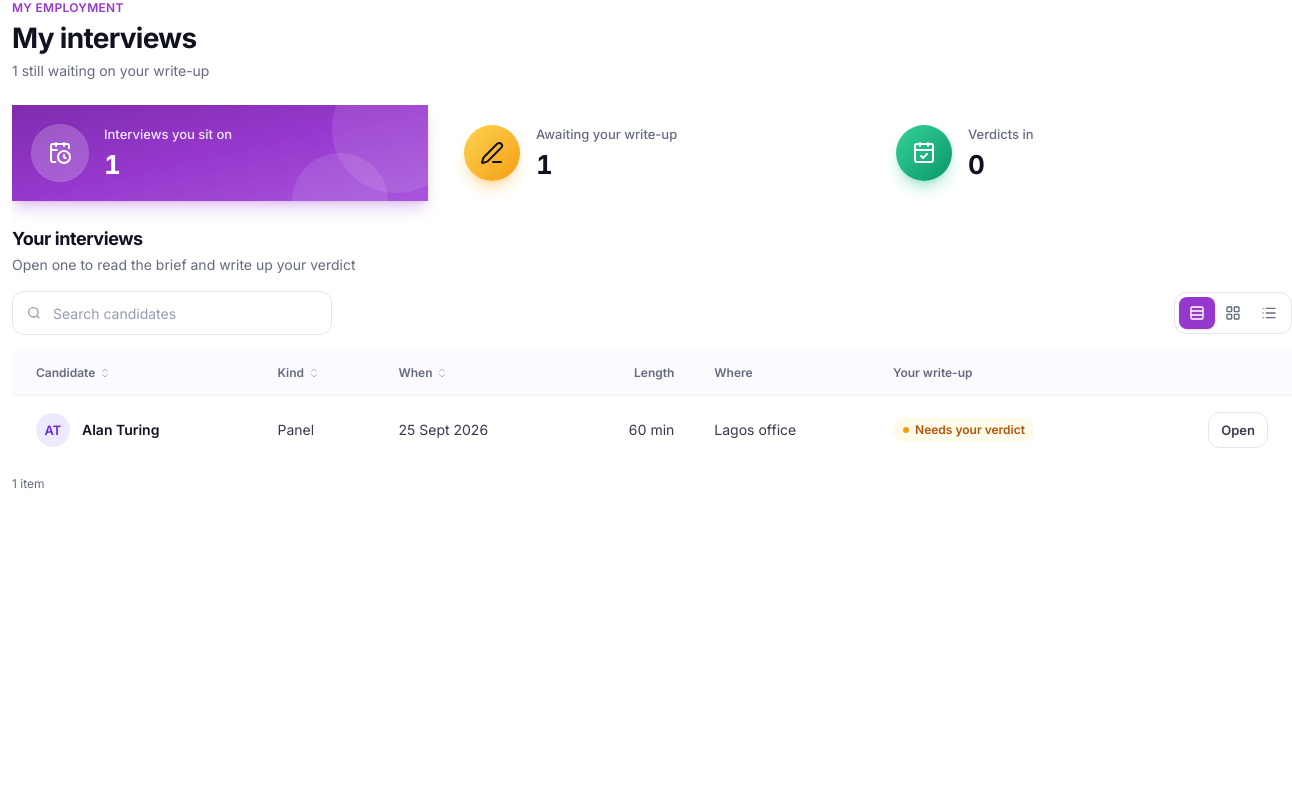
Test: MyInterviews › the anchoring rule › hides the panel until I submit my own verdict
Step 1. Click the button "Open" → {"x": 1238, "y": 430}, box x1=1208 y1=412 x2=1268 y2=448
(page scrolled)
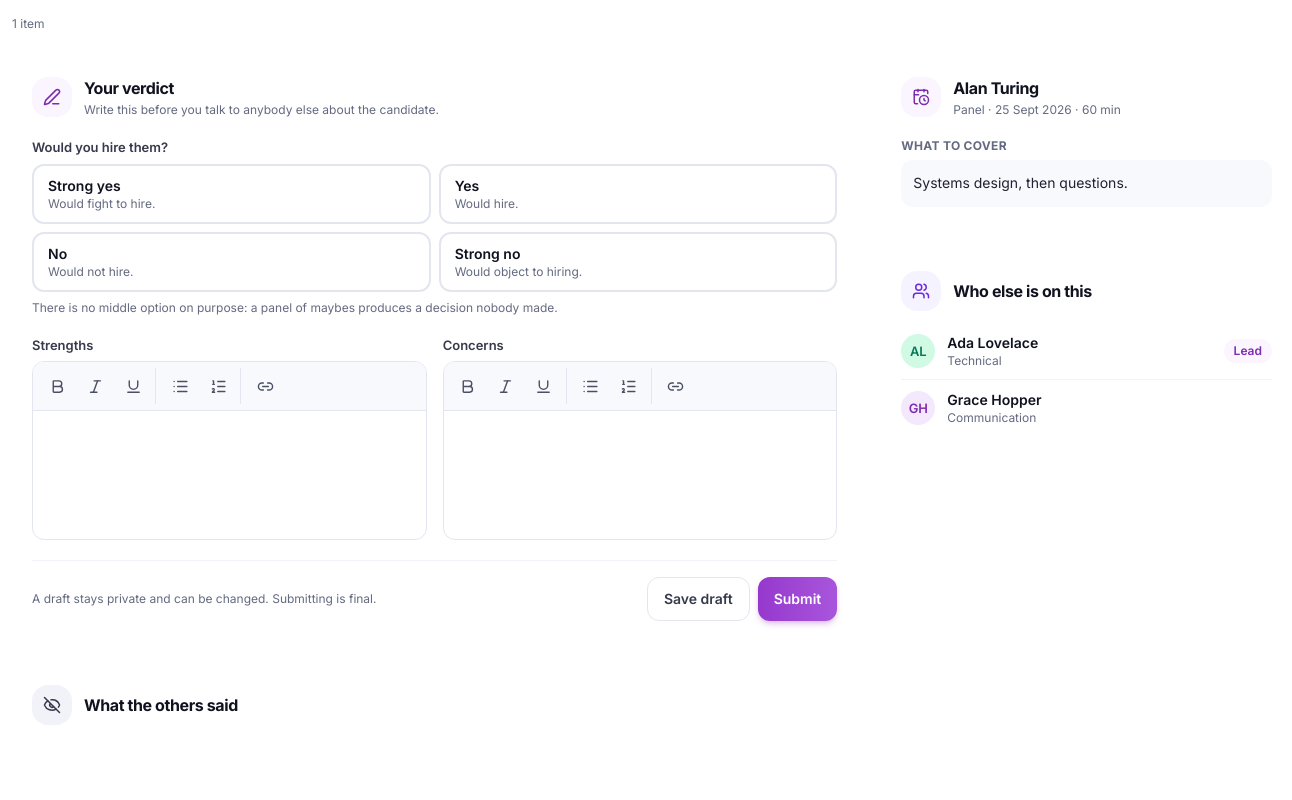
Check: the text "Grace Hopper" is shown, box x1=947 y1=391 x2=1042 y2=408
